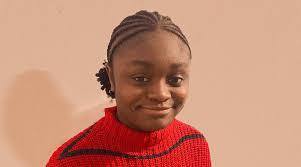person: (96, 5, 200, 140)
